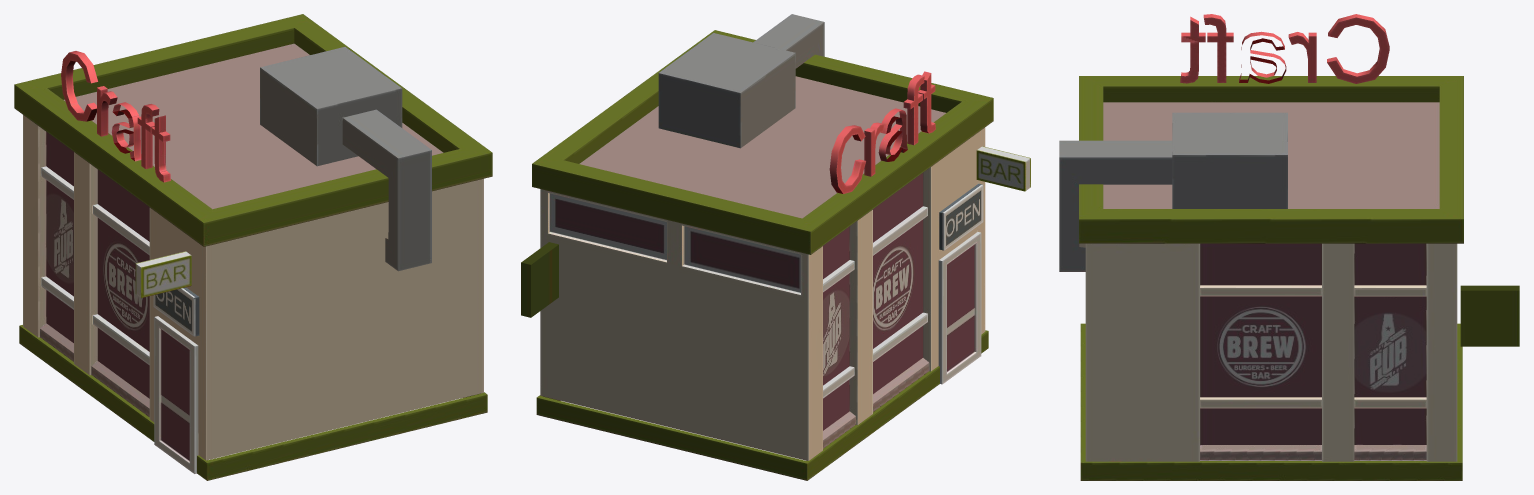
The model's file is Pub.glb.
3 views of the same model, side by side, from view 1: azimuth 30°, elevation 25°; view 2: azimuth 150°, elevation 25°; view 3: azimuth 270°, elevation 25° (orthographic). The views are drawn at different scales.
Visible parts, largest first — view 1: Plane006; view 2: Plane006; view 3: Plane006.
Part boxes in pixels (bbox=[...]): Plane006: bbox=[14, 14, 492, 480]; Plane006: bbox=[521, 14, 1030, 480]; Plane006: bbox=[1059, 14, 1519, 480].
Bounding box in the file's own units: 3 × 2.75 × 3.47.
Materials: 1 (1 with a texture image).
